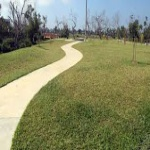Road: (3, 40, 84, 150)
Uncultivated: (2, 39, 150, 149)
